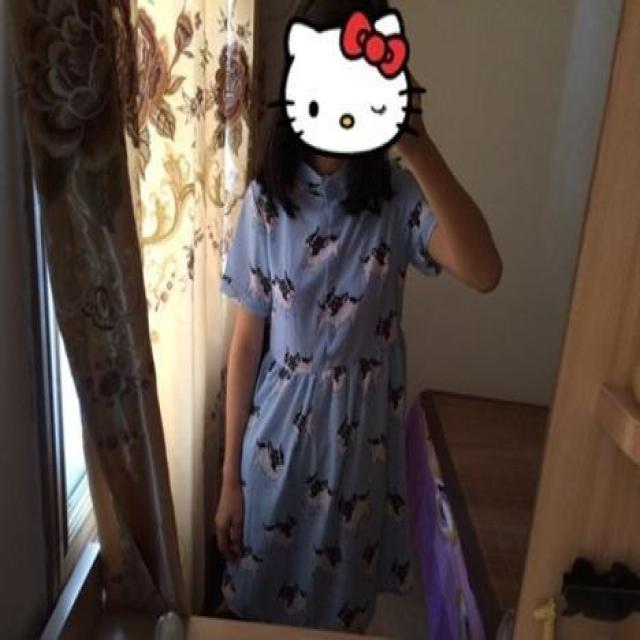short sleeve dress: (222, 150, 438, 631)
